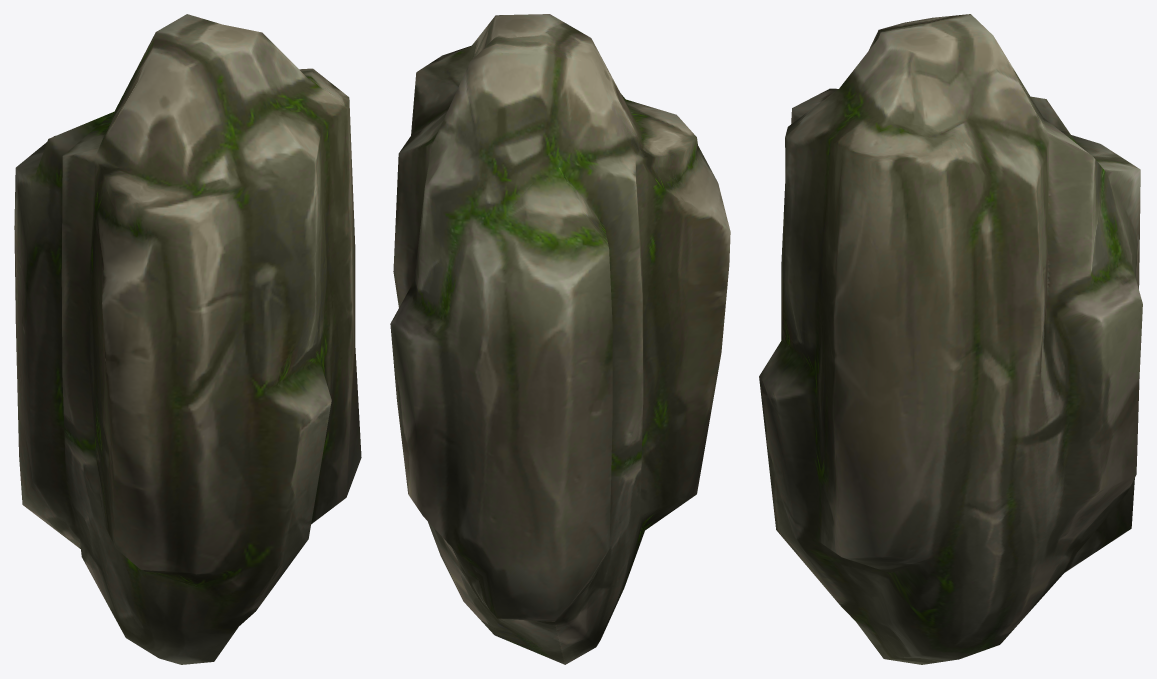
File: RockFormation_4_2 (26).fbx
3 renders of one model, left to right at view 1: azimuth 30°, elevation 25°; view 2: azimuth 150°, elevation 25°; view 3: azimuth 270°, elevation 25°, orthographic. The views are drawn at different scales.
Visible parts, largest first — view 1: RockFormation_4_2 (26); view 2: RockFormation_4_2 (26); view 3: RockFormation_4_2 (26).
Boxes of the visible parts, x1,y1,x2,y2 form: RockFormation_4_2 (26): (14, 14, 361, 664); RockFormation_4_2 (26): (390, 14, 730, 664); RockFormation_4_2 (26): (759, 14, 1142, 664).
Bounding box in the file's own units: 71.7 × 150 × 80.32.
